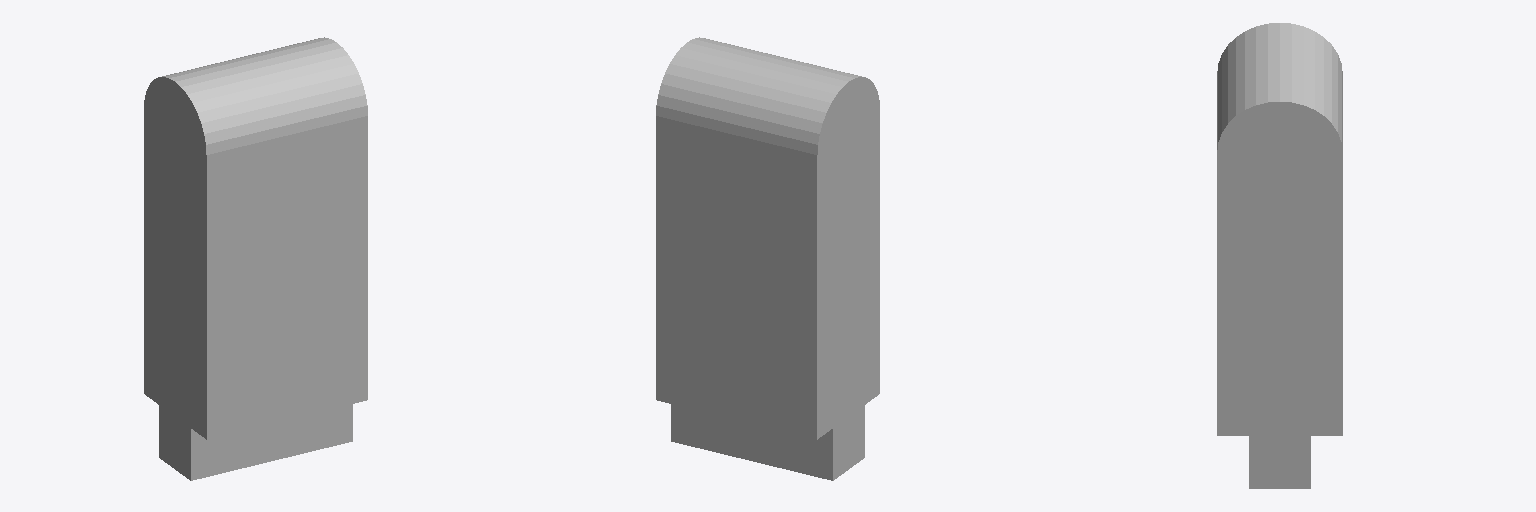
File: body_r_dist_pinvround2.obj
The picture shows the model from 3 angles: view 1: azimuth 30°, elevation 25°; view 2: azimuth 150°, elevation 25°; view 3: azimuth 270°, elevation 25°; orthographic projection.
Parts seen in each view (by area): view 1: body_r_dist_pinvround2_Cube.104; view 2: body_r_dist_pinvround2_Cube.104; view 3: body_r_dist_pinvround2_Cube.104.
Part boxes in pixels (bbox=[...]): body_r_dist_pinvround2_Cube.104: bbox=[144, 37, 367, 480]; body_r_dist_pinvround2_Cube.104: bbox=[656, 37, 879, 480]; body_r_dist_pinvround2_Cube.104: bbox=[1217, 23, 1342, 488].
Bounding box in the file's own units: 0.032 × 0.0733 × 0.0215.